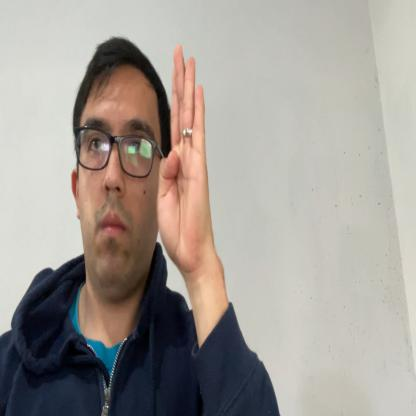B: (158, 35, 208, 281)
